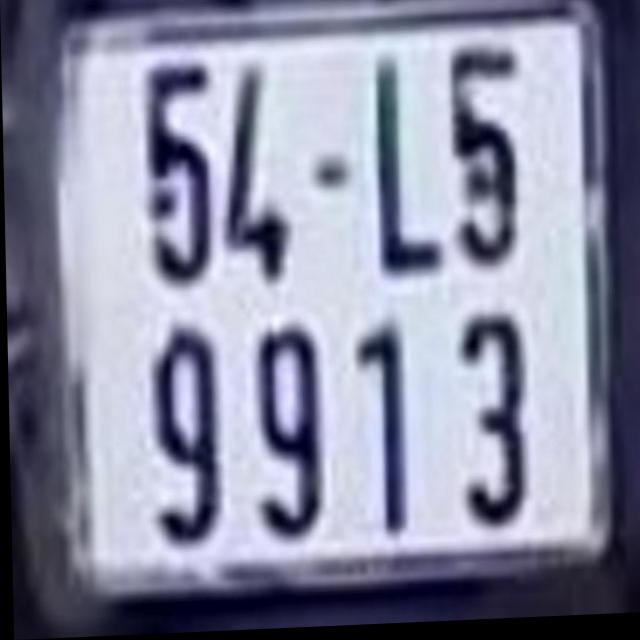1: (351, 332, 413, 533)
3: (138, 324, 220, 539), (452, 319, 526, 529)
4: (220, 71, 294, 280)
5: (444, 55, 522, 265), (143, 66, 214, 277)
9: (254, 328, 316, 531)
L: (365, 59, 445, 278)
